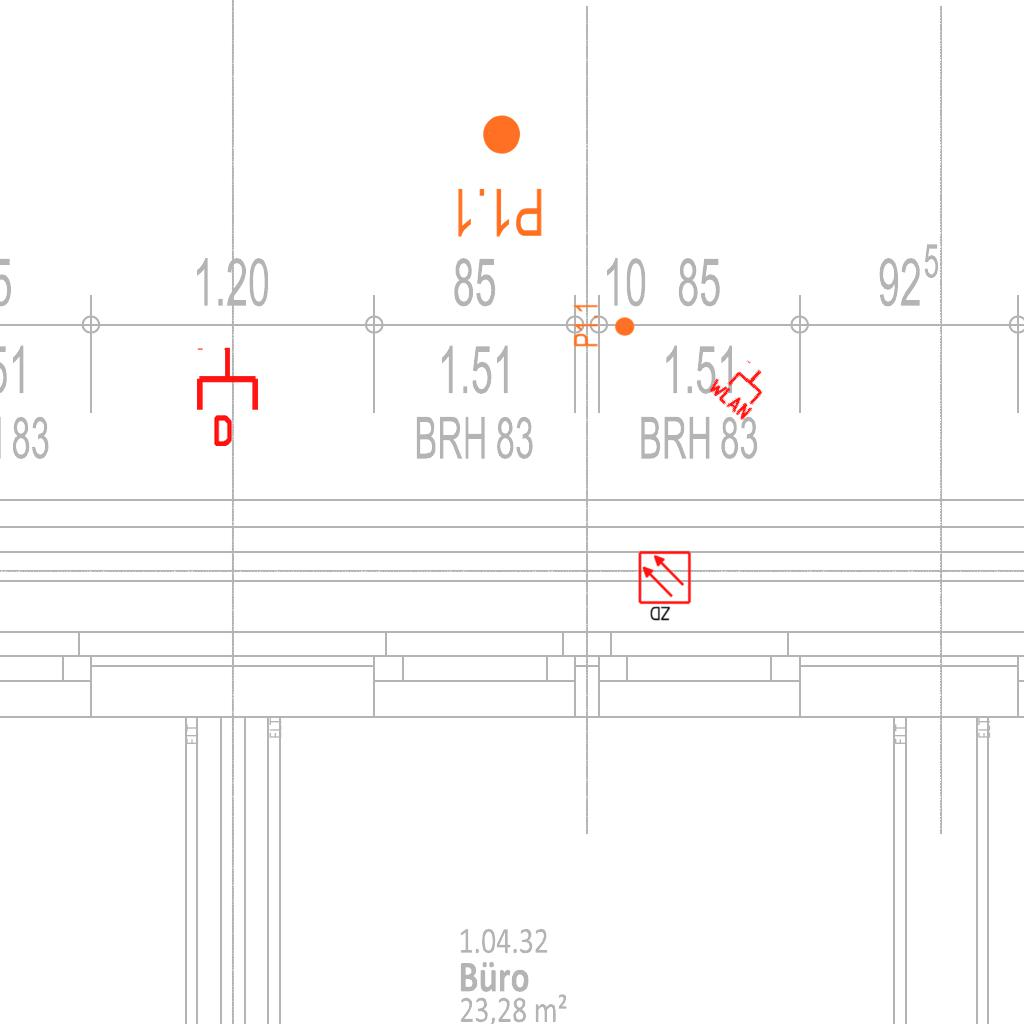Datenanschluss_einfach: (193, 346, 262, 446)
Downlight_LED_Einbauleuchten_Flur: (452, 112, 545, 240), (572, 302, 636, 348)
WLAN: (704, 349, 778, 423)
ZD_Melder_in_Zwischendecke_mit_Revisionsoeffnung_mind_40_x_40_cm: (637, 550, 694, 624)
